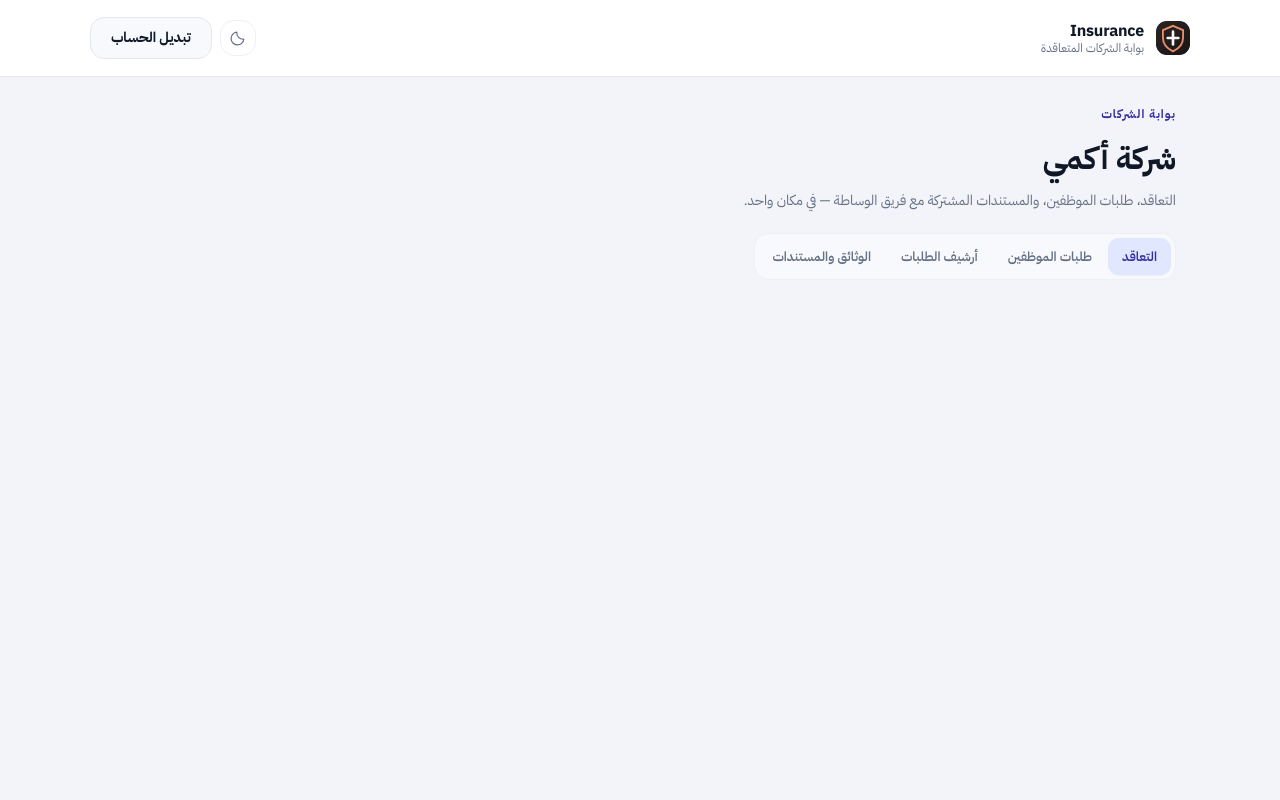
Test case: corporate portal › expands an employee to reveal that employee's requests
Expected: the heading "شركة أكمي" is shown, [1043, 135, 1176, 182]
Click the button "طلبات الموظفين".
click(1050, 256)  # box [994, 238, 1106, 275]
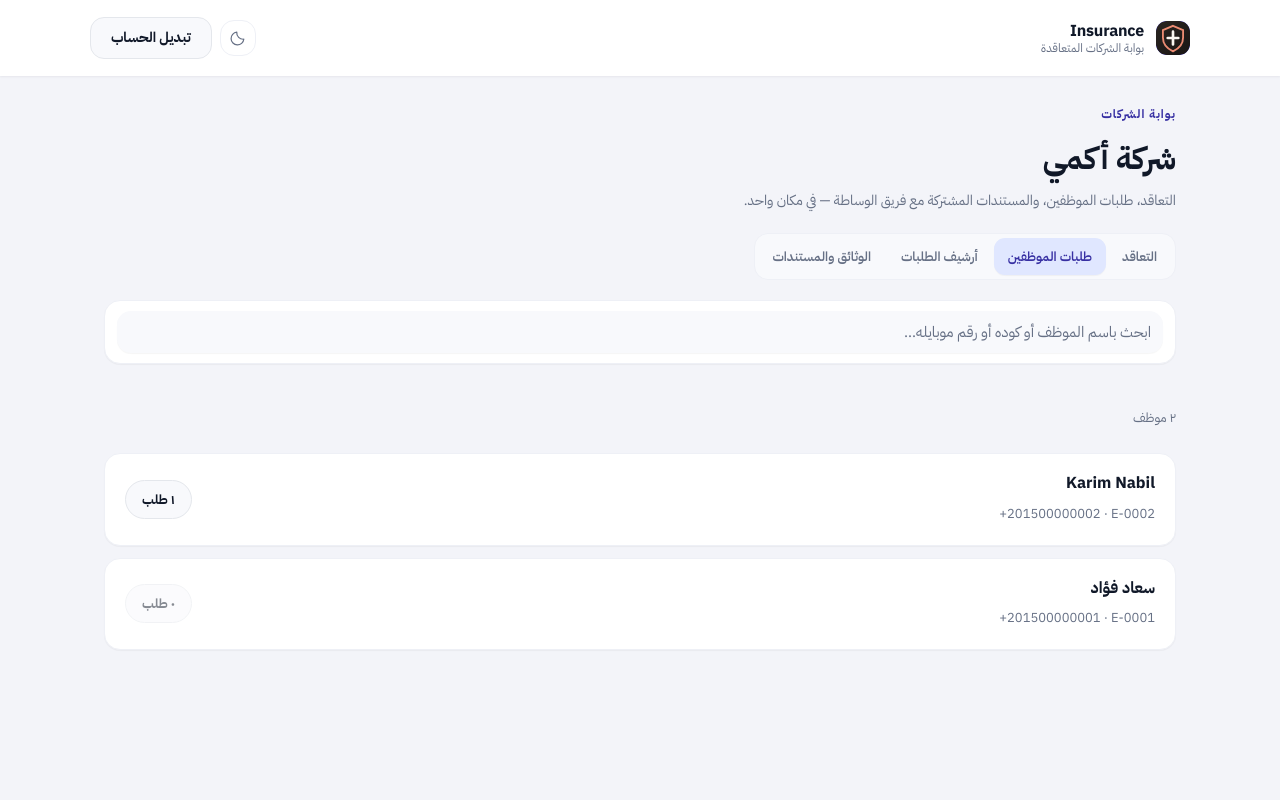
Expected: the text "REQ-2026-000054" is not shown
Result: the heading "Karim Nabil" is shown at [1066, 471, 1155, 495]
Click the button "١ طلب".
click(158, 500)  # box [125, 480, 192, 519]
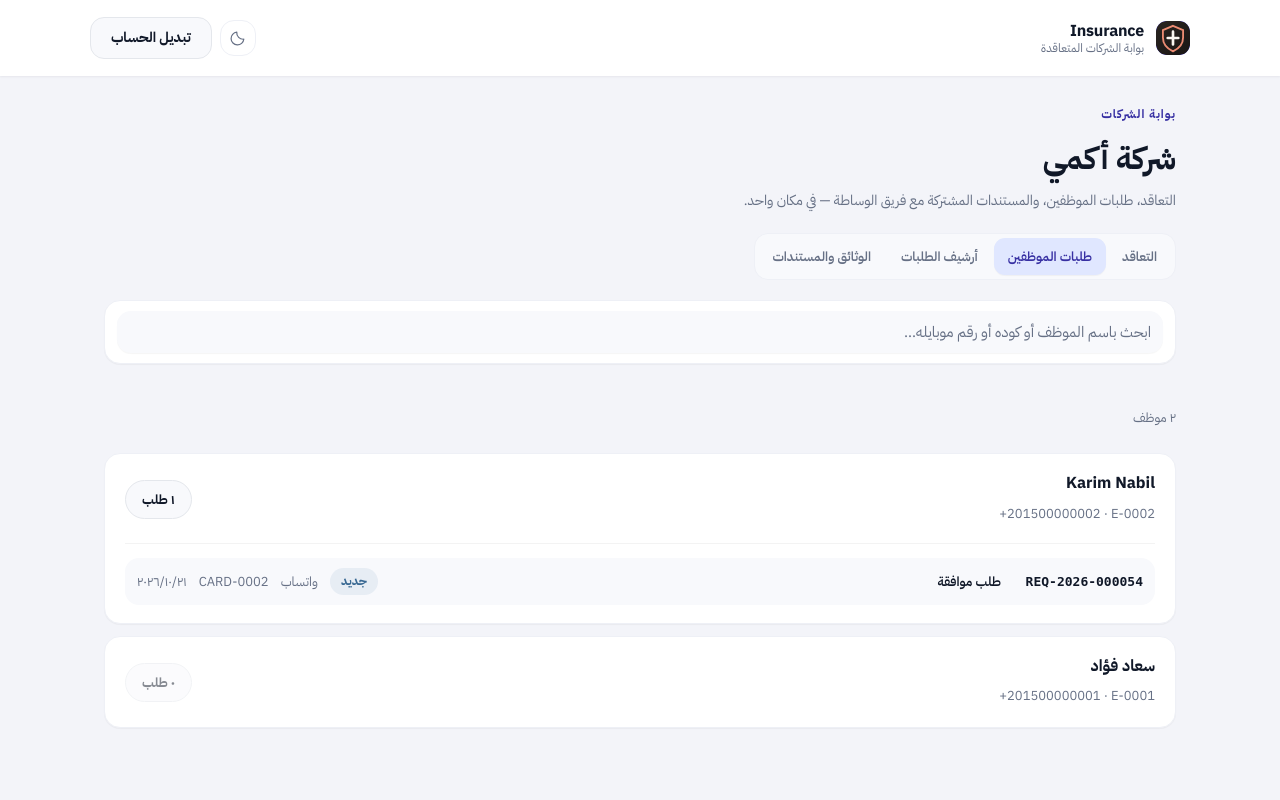
Result: the text "REQ-2026-000054" is shown at [1013, 570, 1143, 593]
Result: the text "واتساب" is shown at [281, 570, 318, 593]
Result: the text "CARD-0002" is shown at [199, 570, 269, 593]
